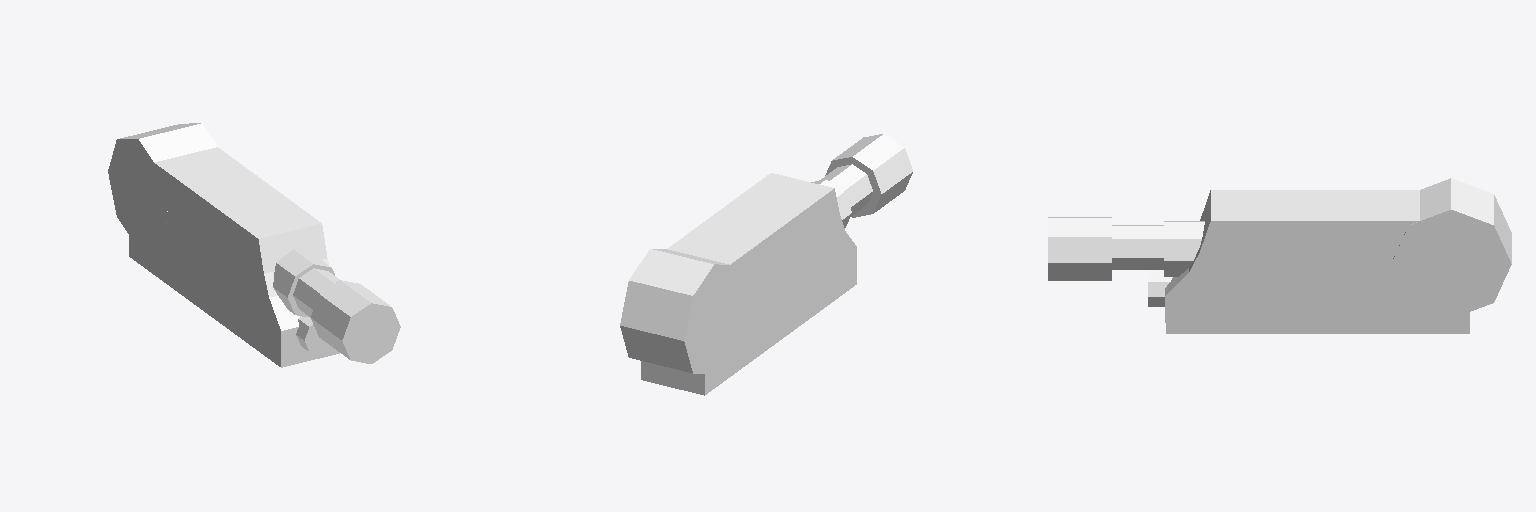
Rendered from wep91.obj.
3 views of the same model, side by side, from view 1: azimuth 30°, elevation 25°; view 2: azimuth 150°, elevation 25°; view 3: azimuth 270°, elevation 25° (orthographic).
Visible parts, largest first — view 1: frm-cube1, frm-cyl8, frm-cyl7, frm-cyl4, frm-cyl5, frm-cyl6; view 2: frm-cube1, frm-cyl8, frm-cyl7, frm-cyl5; view 3: frm-cube1, frm-cyl8, frm-cyl7, frm-cyl5, frm-cyl4, frm-cyl6.
Part boxes in pixels (x1,y1,x2,y2): frm-cube1: (129, 147, 339, 367); frm-cyl8: (108, 123, 218, 247); frm-cyl7: (311, 280, 400, 363); frm-cyl4: (273, 249, 334, 316); frm-cyl5: (293, 268, 339, 317); frm-cyl6: (296, 316, 331, 354); frm-cube1: (641, 173, 856, 395); frm-cyl8: (620, 249, 744, 373); frm-cyl7: (825, 134, 912, 217); frm-cyl5: (819, 164, 872, 216); frm-cube1: (1165, 190, 1469, 333); frm-cyl8: (1391, 178, 1511, 318); frm-cyl7: (1048, 217, 1111, 280); frm-cyl5: (1112, 225, 1163, 269); frm-cyl4: (1164, 221, 1204, 276); frm-cyl6: (1148, 270, 1172, 306).
Bounding box in the file's own units: 1.59 × 2.93 × 9.92.